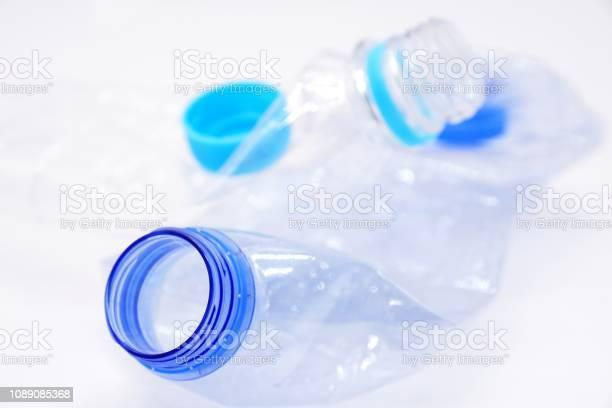plastic: (139, 63, 610, 397)
